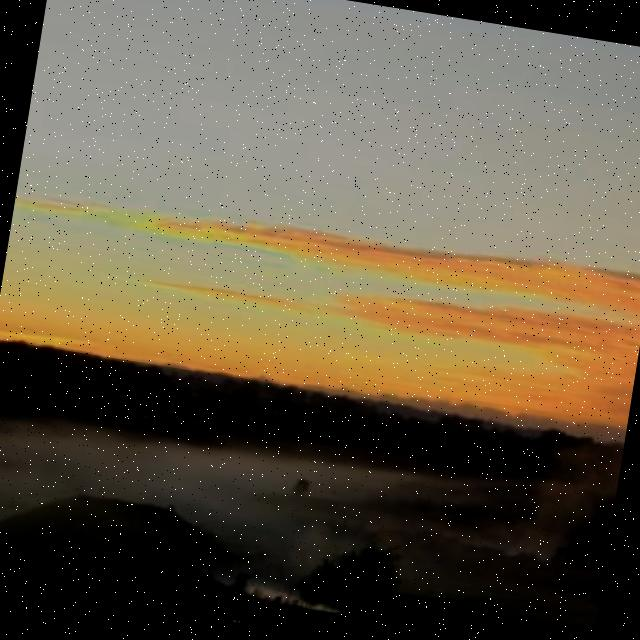As: (89, 176, 640, 399)
